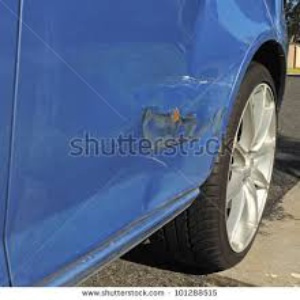door: (113, 49, 235, 132)
